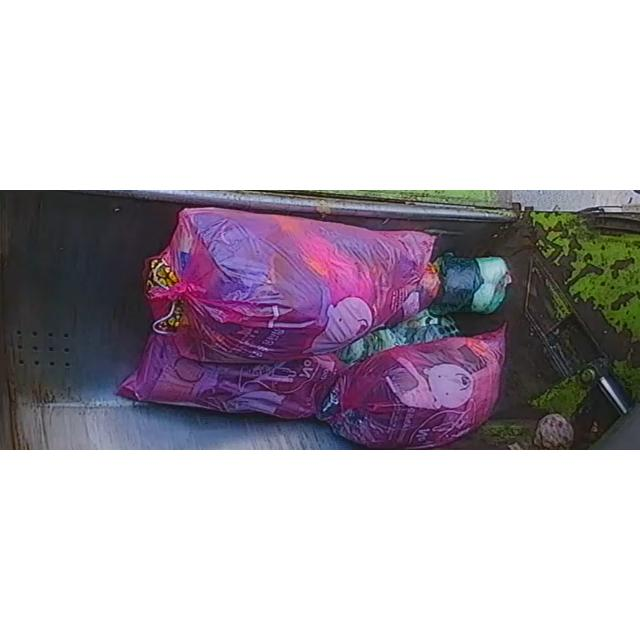general_trashbag: (430, 254, 511, 315)
other_trashbag: (146, 208, 440, 363), (328, 326, 505, 449), (118, 335, 345, 420)
